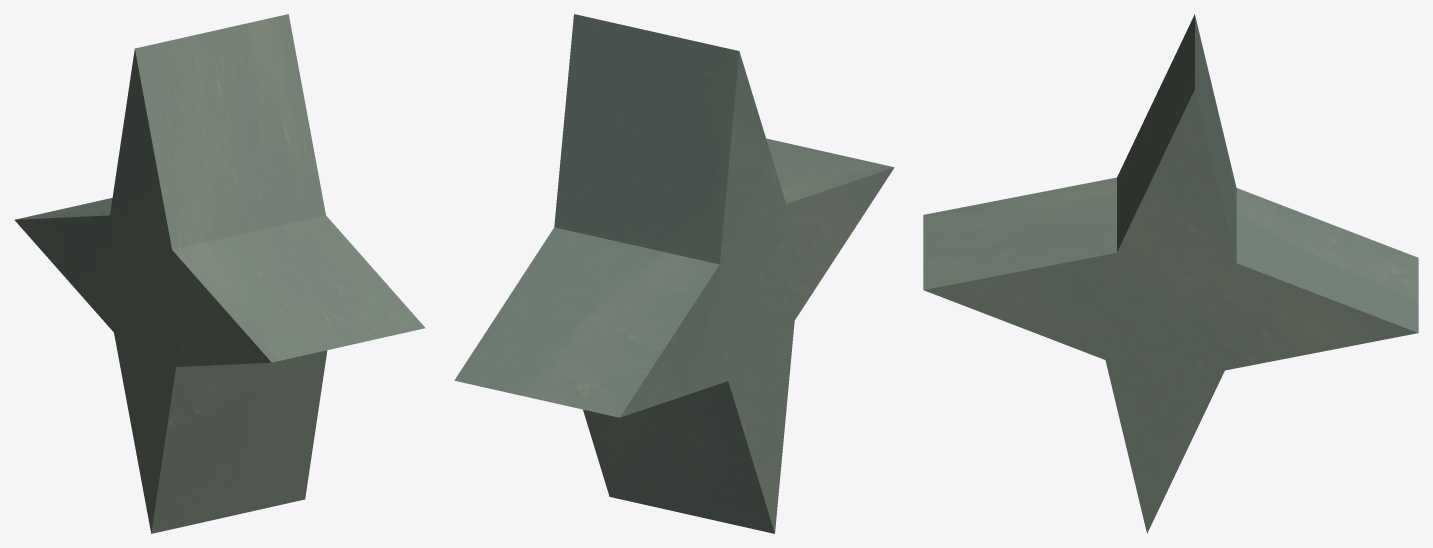
File: ninja star.fbx
3 renders of one model, left to right at view 1: azimuth 30°, elevation 25°; view 2: azimuth 150°, elevation 25°; view 3: azimuth 270°, elevation 25°, orthographic. The views are drawn at different scales.
Parts seen in each view (by area): view 1: ninja star.001; view 2: ninja star.001; view 3: ninja star.001.
Boxes of the visible parts, <box> form: ninja star.001: <box>14,14,425,533</box>; ninja star.001: <box>454,14,894,533</box>; ninja star.001: <box>923,14,1418,533</box>.
Size of the model in its own units: 135 by 373 by 371.
